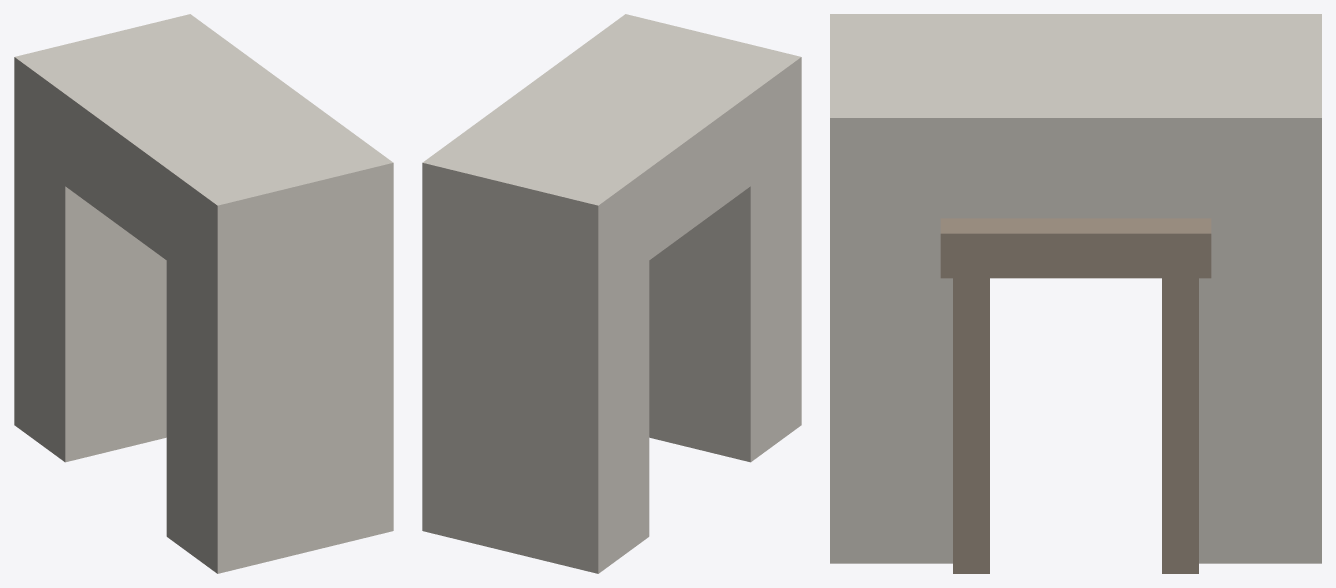
The model's file is Stucco_Doorway_Wide_Tall.glb.
3 views of the same model, side by side, from view 1: azimuth 30°, elevation 25°; view 2: azimuth 150°, elevation 25°; view 3: azimuth 270°, elevation 25° (orthographic). The views are drawn at different scales.
Parts seen in each view (by area): view 1: object1; view 2: object1; view 3: object1, object2.
Part boxes in pixels (bbox=[...]): object1: bbox=[14, 14, 393, 573]; object1: bbox=[422, 14, 801, 573]; object1: bbox=[830, 14, 1321, 563]; object2: bbox=[940, 218, 1211, 573].
Size of the model in its own units: 1.15 by 2 by 2.
